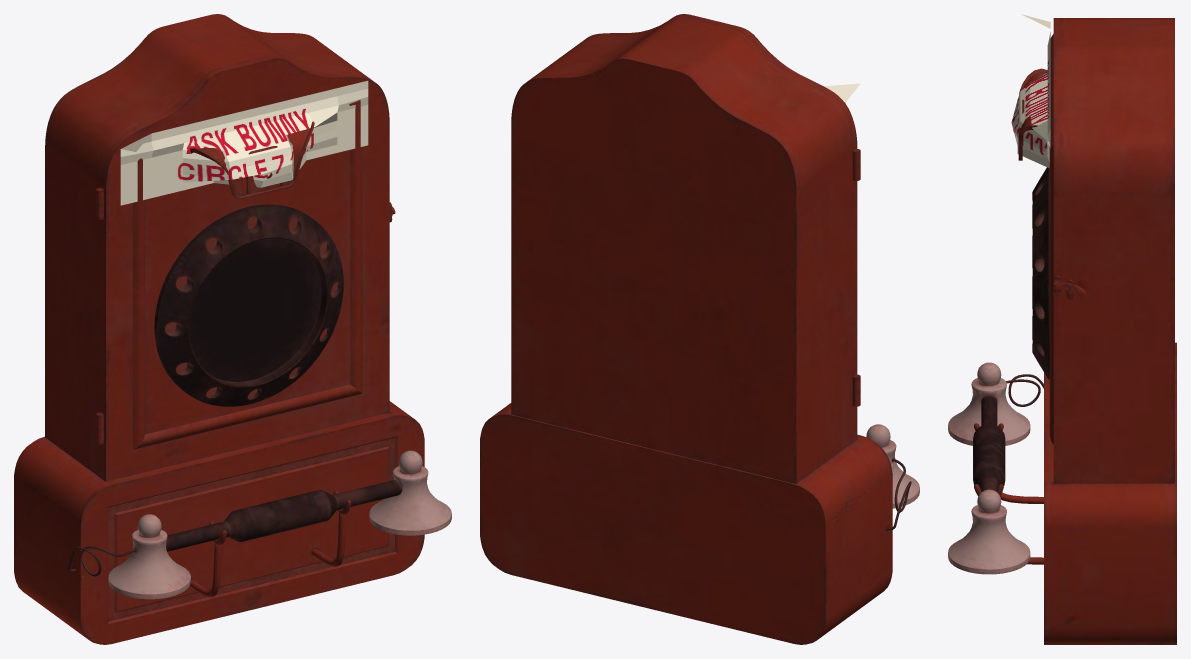
Rendered from nyb_deskset_phone.glb.
3 views of the same model, side by side, from view 1: azimuth 30°, elevation 25°; view 2: azimuth 150°, elevation 25°; view 3: azimuth 270°, elevation 25° (orthographic).
Visible parts, largest first — view 1: vintage_telephone_wall_clock, stk_lbl_f44720fff0.png; view 2: vintage_telephone_wall_clock; view 3: vintage_telephone_wall_clock, stk_lbl_f44720fff0.png.
Boxes of the visible parts, x1,y1,x2,y2 form: vintage_telephone_wall_clock: (14,14,451,644); stk_lbl_f44720fff0.png: (120,80,368,205); vintage_telephone_wall_clock: (480,14,919,644); vintage_telephone_wall_clock: (948,18,1176,644); stk_lbl_f44720fff0.png: (1011,14,1050,168).
Bounding box in the file's own units: 0.3428 × 0.5012 × 0.1926.
Materials: 3 (3 with a texture image).
